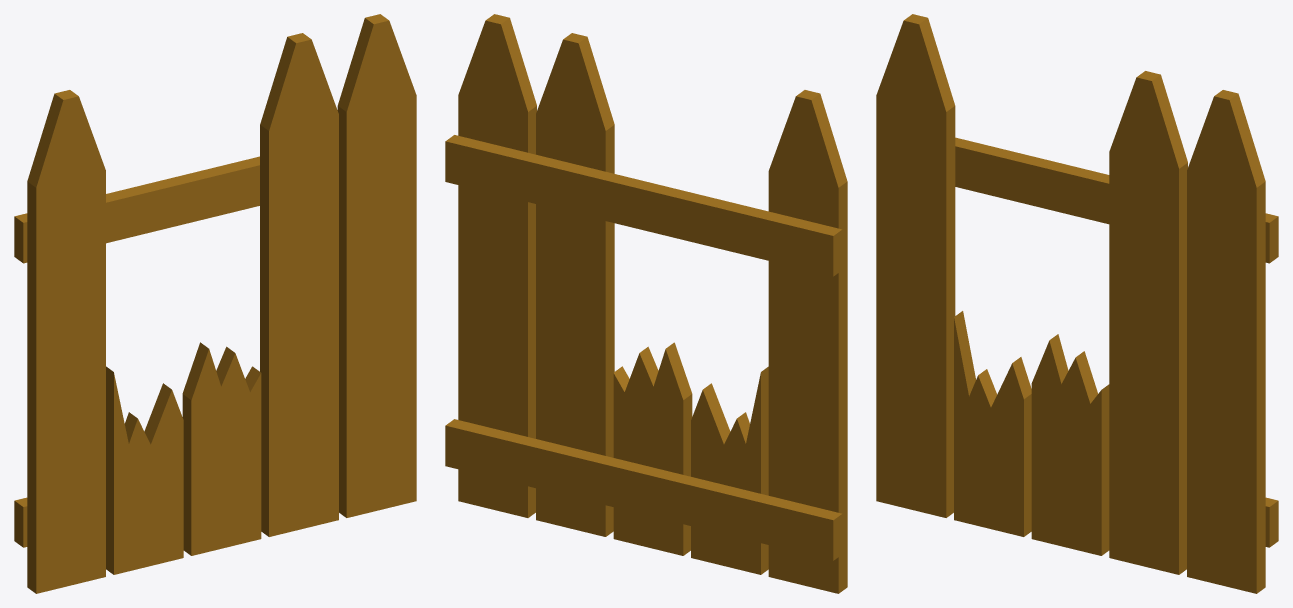
The model's file is WoodenFence (4).fbx.
3 renders of one model, left to right at view 1: azimuth 30°, elevation 25°; view 2: azimuth 150°, elevation 25°; view 3: azimuth 330°, elevation 25°, orthographic.
Parts seen in each view (by area): view 1: Cube.004; view 2: Cube.004; view 3: Cube.004.
Part boxes in pixels (x1,y1,x2,y2): Cube.004: (14,14,416,593); Cube.004: (445,14,847,593); Cube.004: (876,14,1278,593).
Size of the model in its own units: 100 by 120 by 8.
